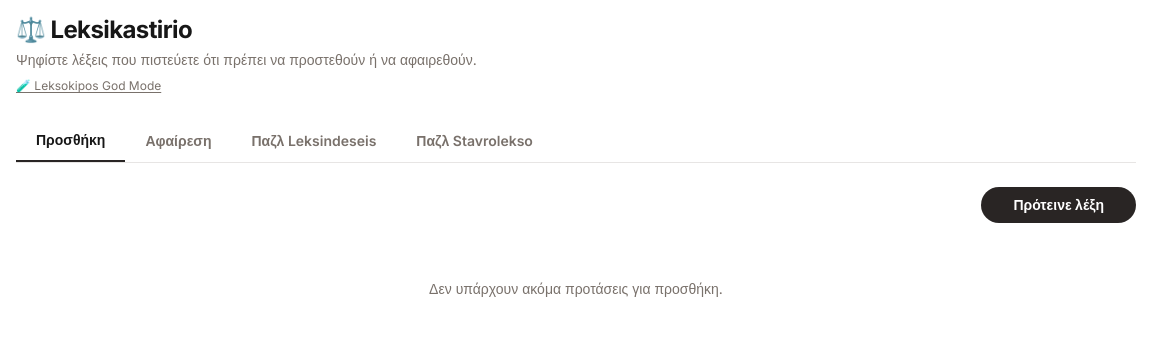
Scenario: CommunityQueueCard — the review wire › leksindeseis: the reviewed row leaves the queue
Click the button "Παζλ Leksindeseis" at (314, 141), box top-left (232, 120), bottom-right (396, 162)
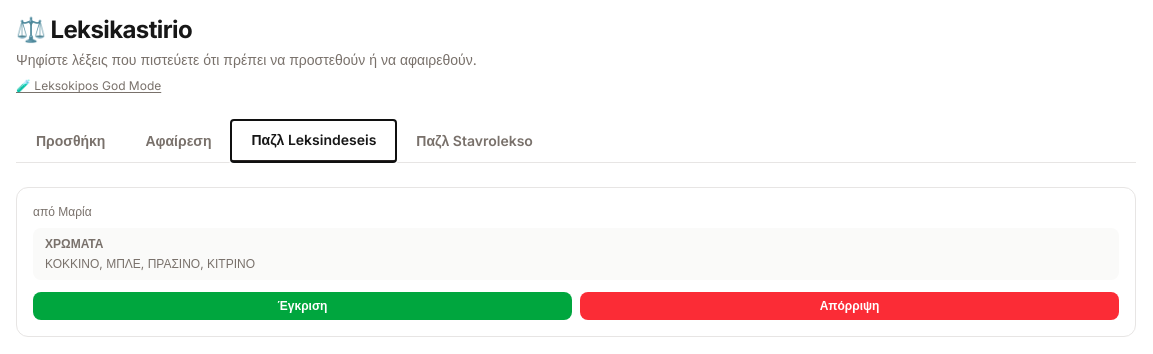
Click the button with test id "community-approve" at (302, 306), box top-left (33, 292), bottom-right (572, 320)
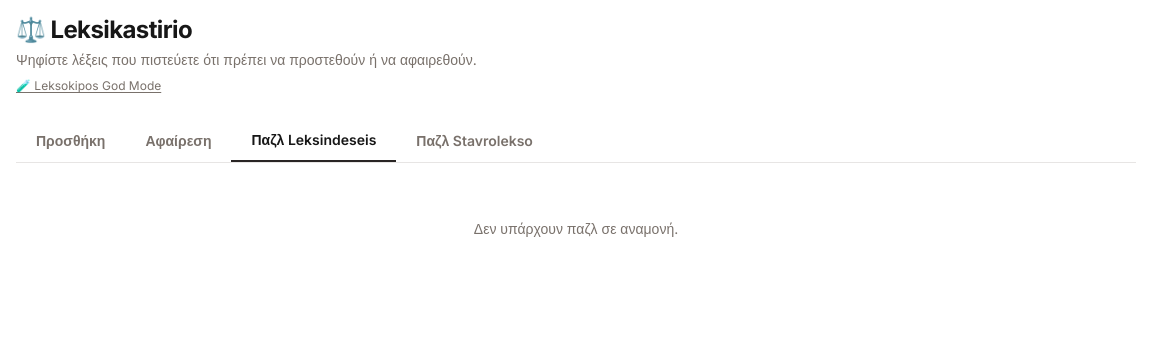
Expected: the element with test id "community-queue-card" is gone
Expected: the text "Δεν υπάρχουν παζλ σε αναμονή." is shown, top-left (474, 220), bottom-right (678, 237)
